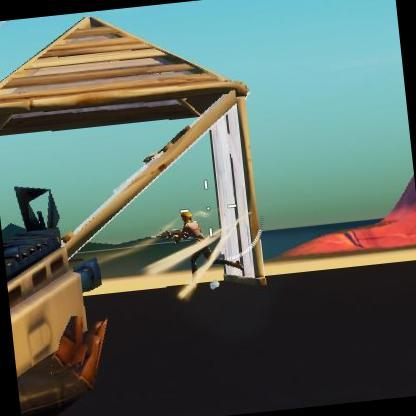person: (168, 204, 214, 276)
